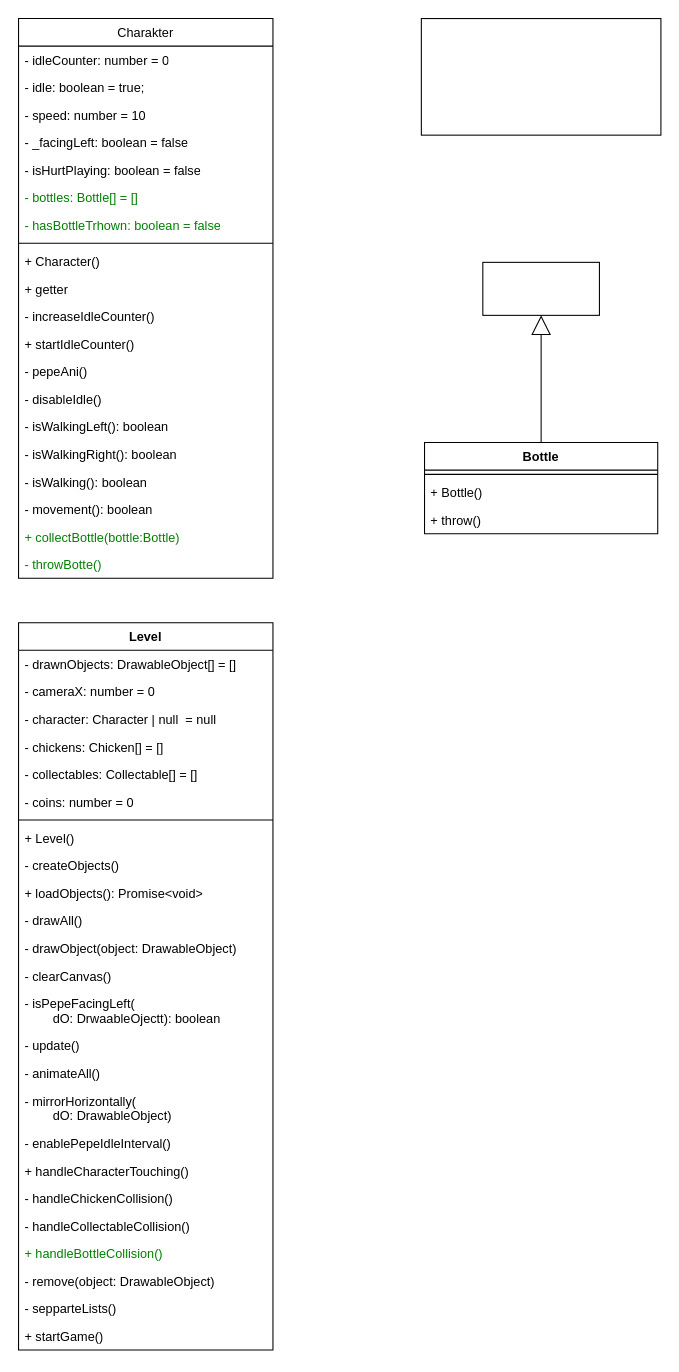
The diagram is 679 pixels wide and 1372 high, and some of its shapes have lost their labels. The shapes that lost their labels are listed below. From the top down, each one's box as (x1, y1, x2, y2) in pixels, then its label:
(420, 17, 661, 135): <<Enumeration>> BaseState idle collected thrown destroyed
(482, 261, 599, 315): Collectable
